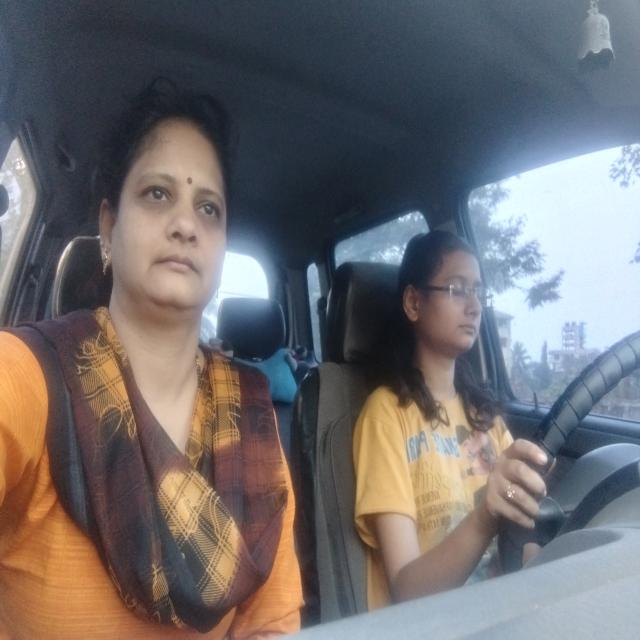drowsy: (392, 226, 496, 362)
person: (92, 96, 238, 330)
